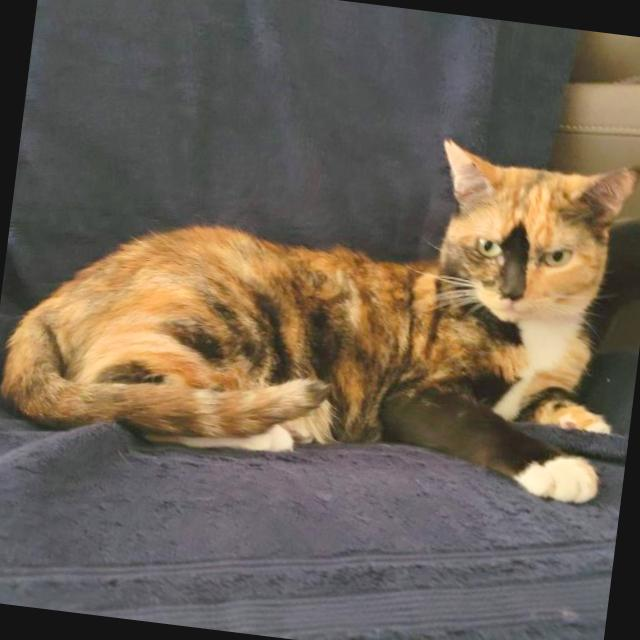calico_cat: (411, 124, 640, 352)
